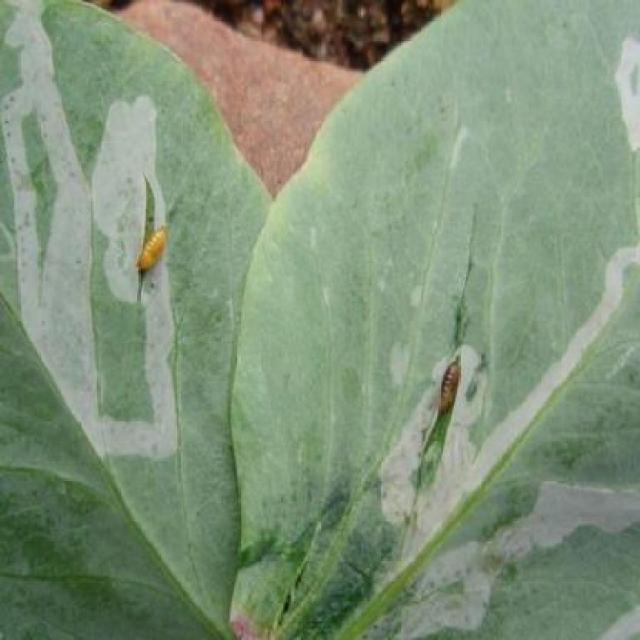whorl-maggot: (134, 216, 177, 284), (432, 342, 466, 420)
